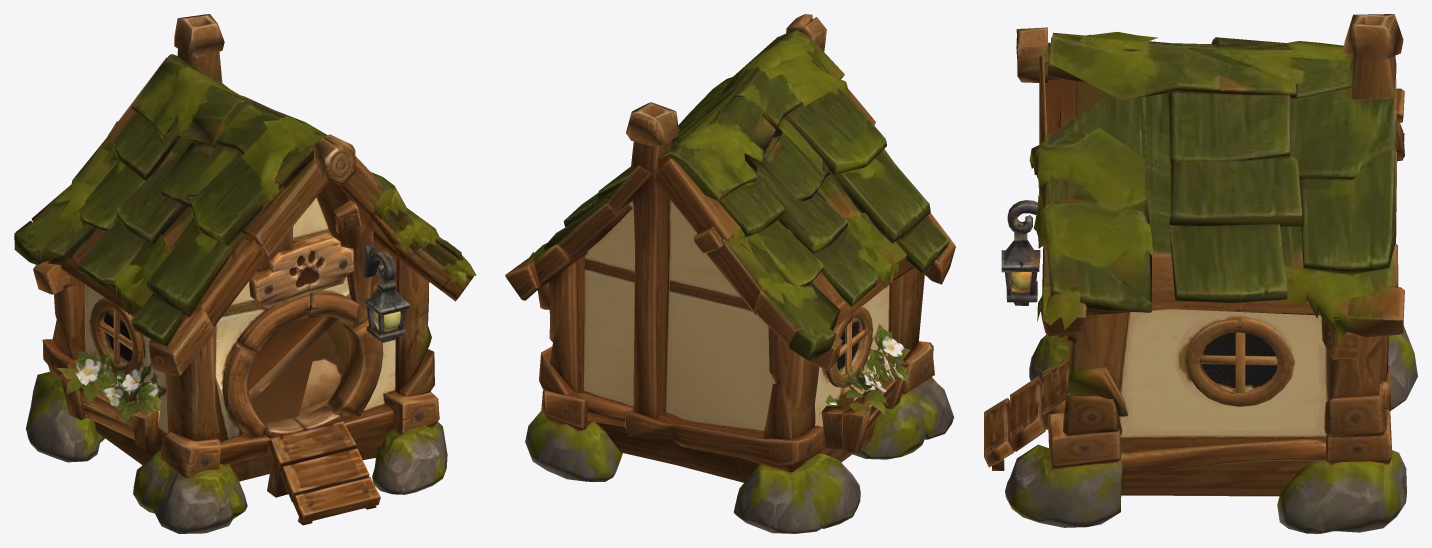
Rendered from enclos_cabane.glb.
3 renders of one model, left to right at view 1: azimuth 30°, elevation 25°; view 2: azimuth 150°, elevation 25°; view 3: azimuth 270°, elevation 25°, orthographic. The views are drawn at different scales.
Size of the model in its own units: 0.8638 by 0.9546 by 0.8491.
1 material, 1 textured.
